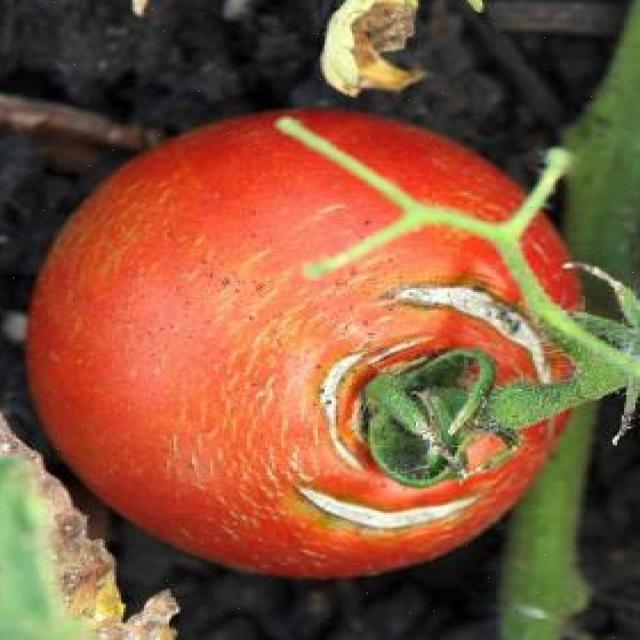Cracking Fruit: (81, 40, 317, 340)
